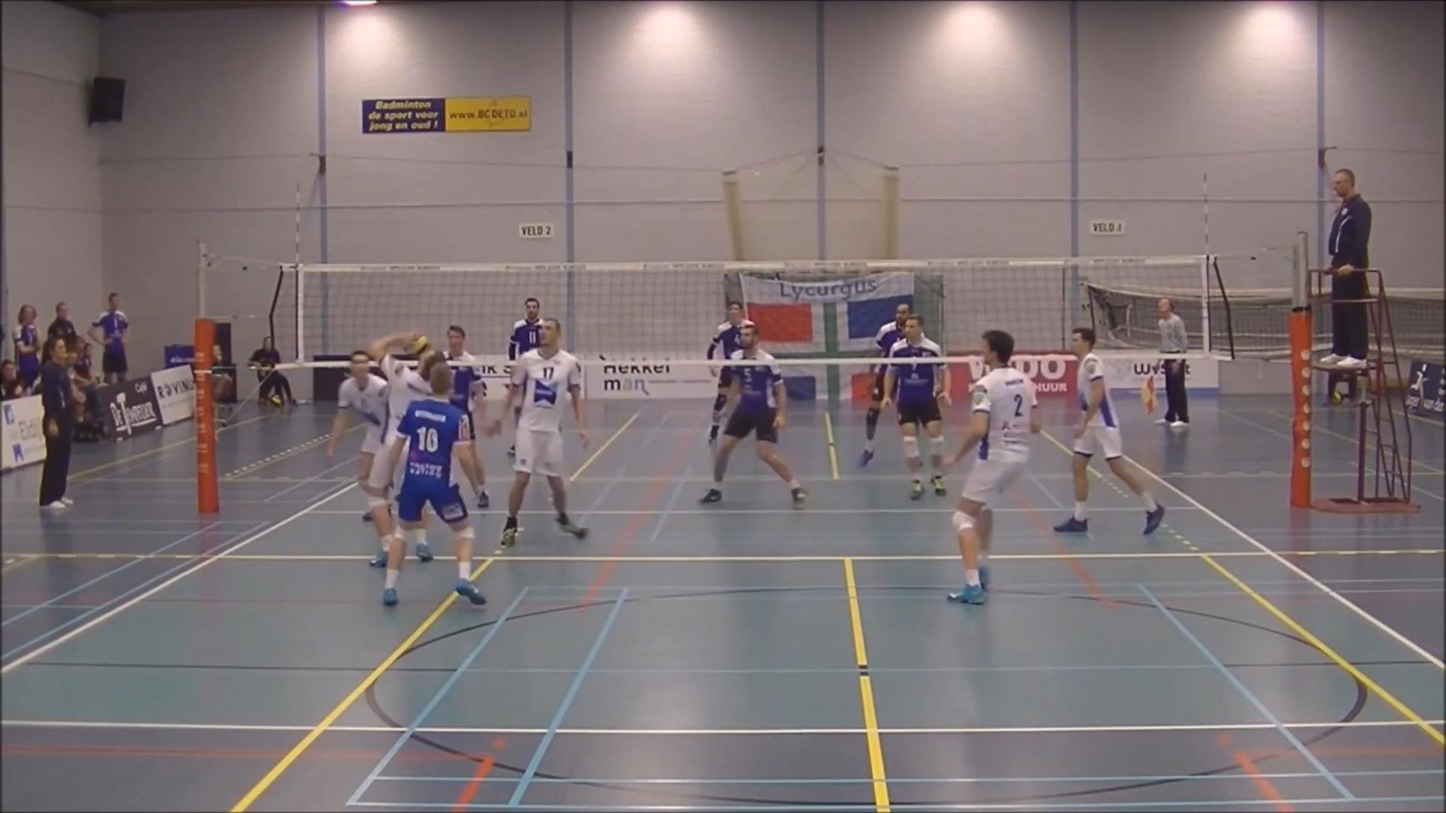alzata: (364, 323, 450, 565)
